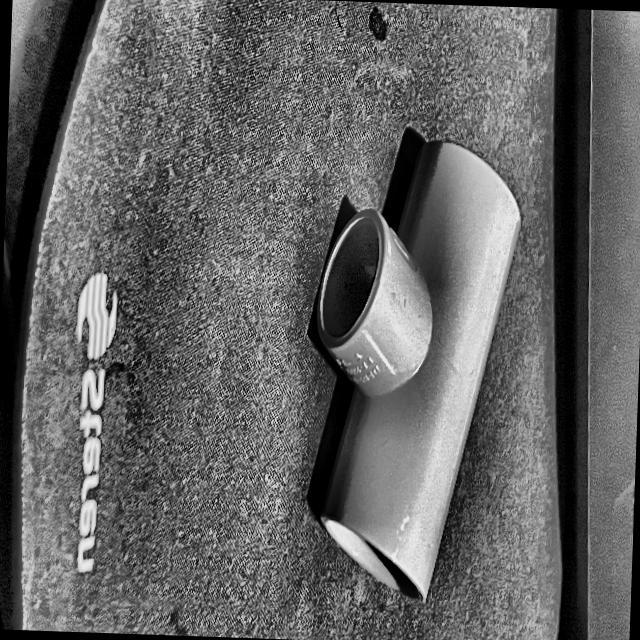EQUALTEE: (313, 139, 519, 603)
